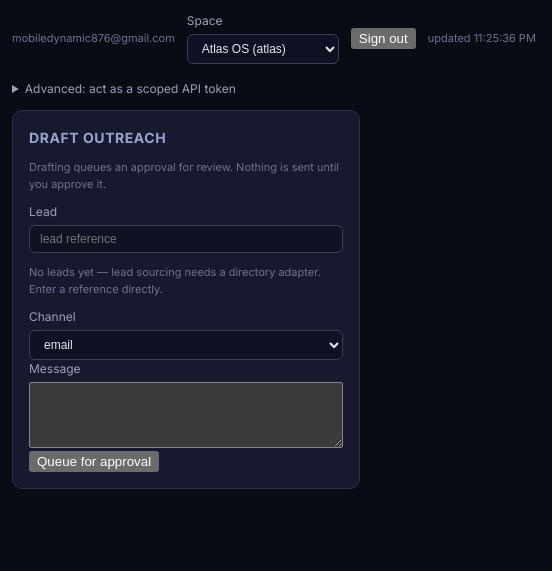
Test: outreach drafting › refuses to submit without a lead reference or a body
Click the button with test id "queue-approval" at x=94, y=462, box left=29, top=451, right=159, bottom=472
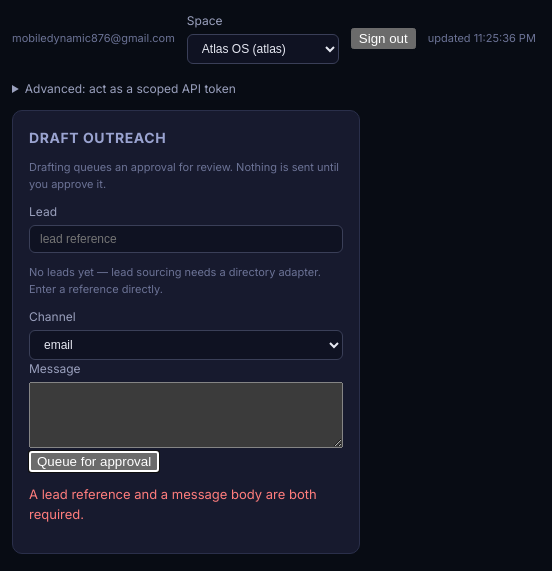
Result: the message shows "both required" at left=29, top=486, right=317, bottom=522
